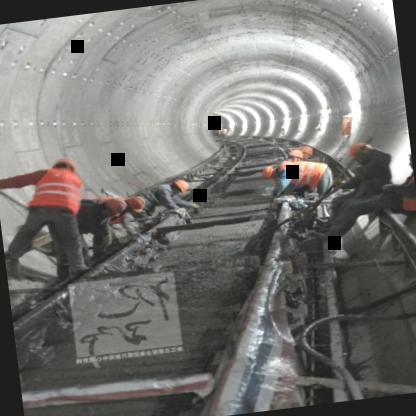helmet: (44, 154, 78, 179), (94, 196, 130, 218), (342, 138, 372, 164), (165, 176, 196, 197), (118, 193, 148, 214), (260, 163, 282, 180), (283, 149, 304, 165), (404, 142, 414, 173), (298, 144, 316, 160)
